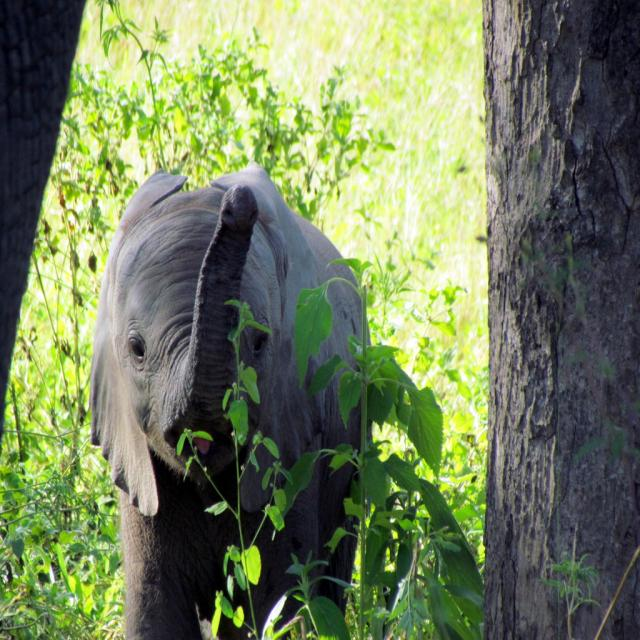elephant: (95, 160, 417, 631)
